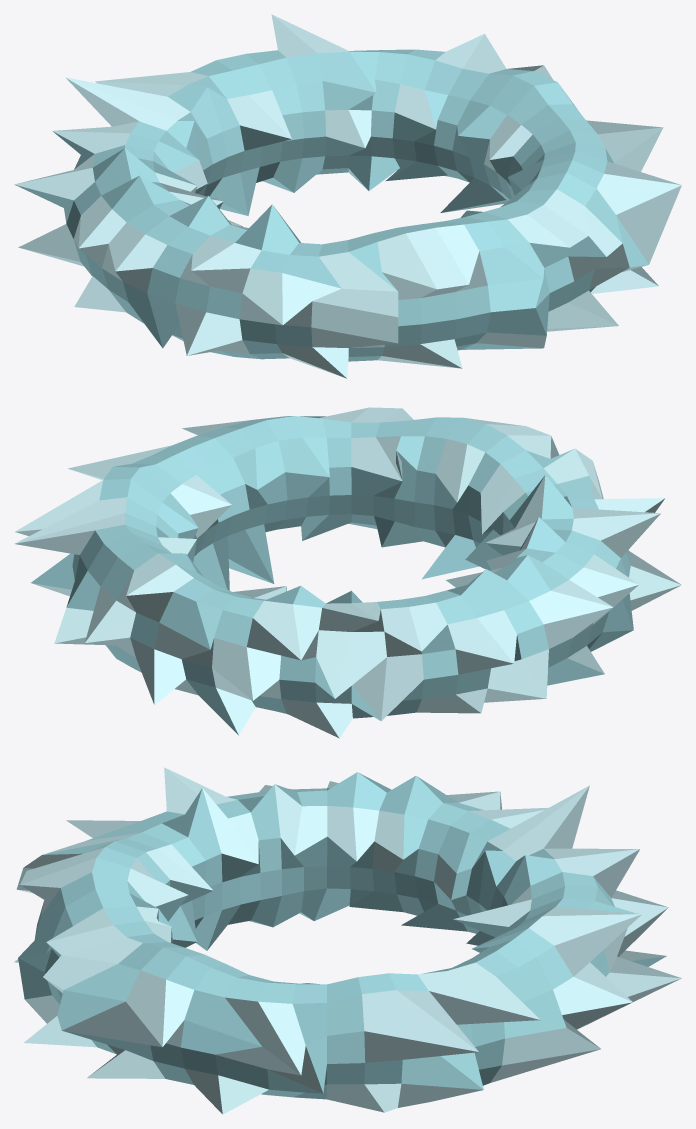
File: ringofice.fbx
The picture shows the model from 3 angles, top to bottom: view 1: azimuth 30°, elevation 25°; view 2: azimuth 150°, elevation 25°; view 3: azimuth 270°, elevation 25°; orthographic projection. The views are drawn at different scales.
Visible parts, largest first — view 1: Torus; view 2: Torus; view 3: Torus.
Boxes of the visible parts, bbox=[...] form: Torus: bbox=[14, 14, 681, 378]; Torus: bbox=[14, 407, 681, 738]; Torus: bbox=[14, 767, 681, 1114].
Size of the model in its own units: 447 by 117 by 441.
